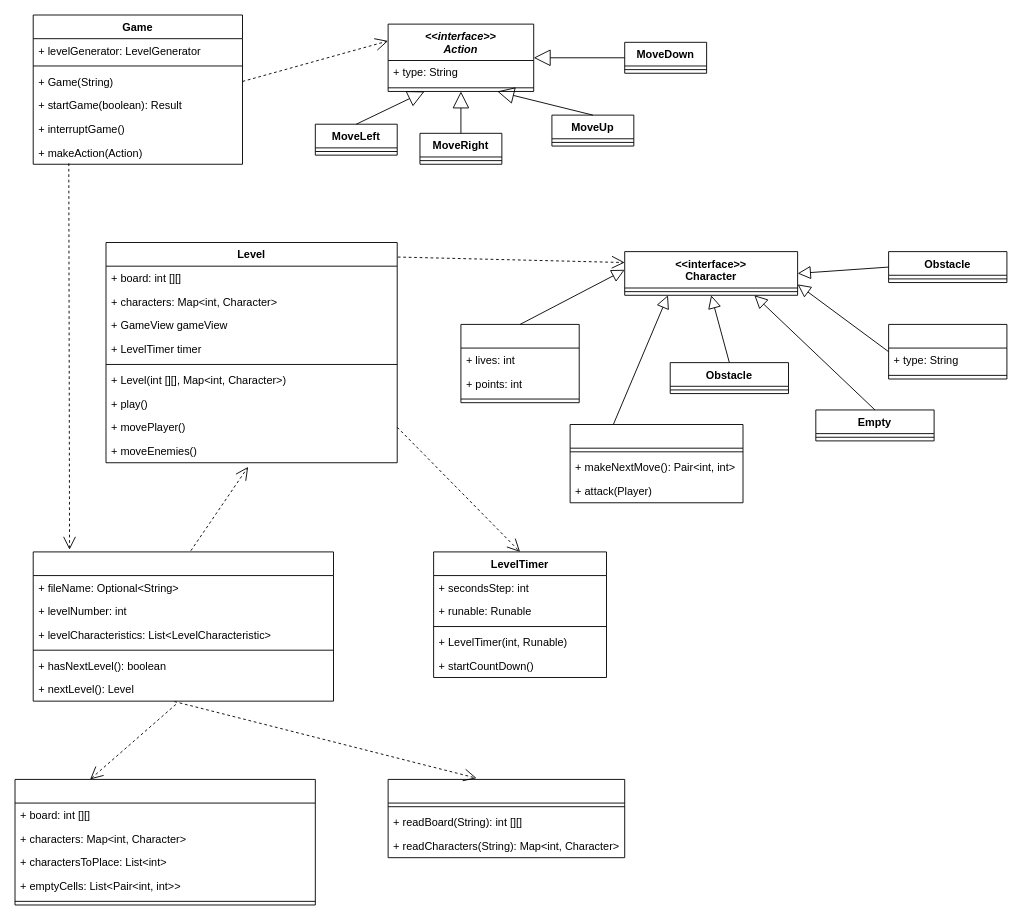
Some shapes in this 1022 by 920 pixel diagram are drawn without their labels. Here are the shapes that lost their labels. From the top down, the box of each, then its label:
(460, 324, 579, 403): Player
(888, 324, 1007, 379): Shetter
(569, 424, 743, 503): Enemy
(32, 551, 334, 701): LevelGenerator
(387, 779, 625, 858): FileUtils
(14, 779, 315, 905): LevelCharacteristic
